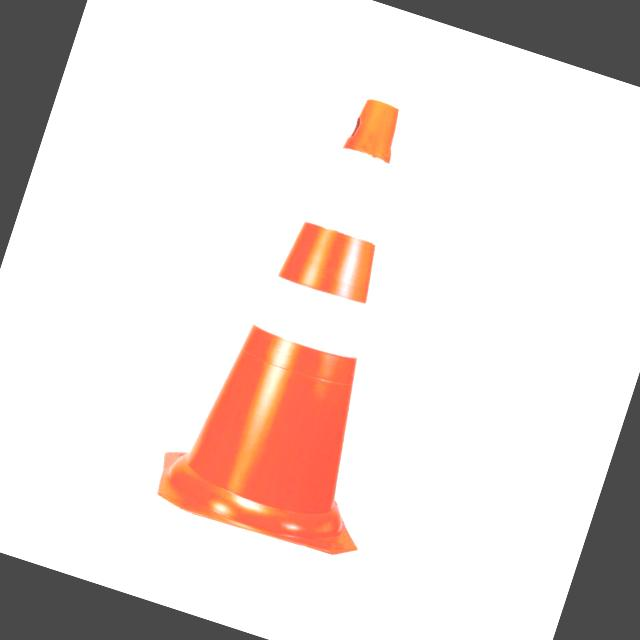cone: (117, 21, 536, 594)
